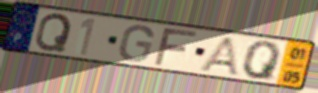1: (79, 17, 97, 57)
A: (196, 36, 241, 78)
F: (151, 28, 201, 68)
G: (117, 24, 156, 64)
Q: (241, 40, 284, 82), (33, 12, 74, 53)
